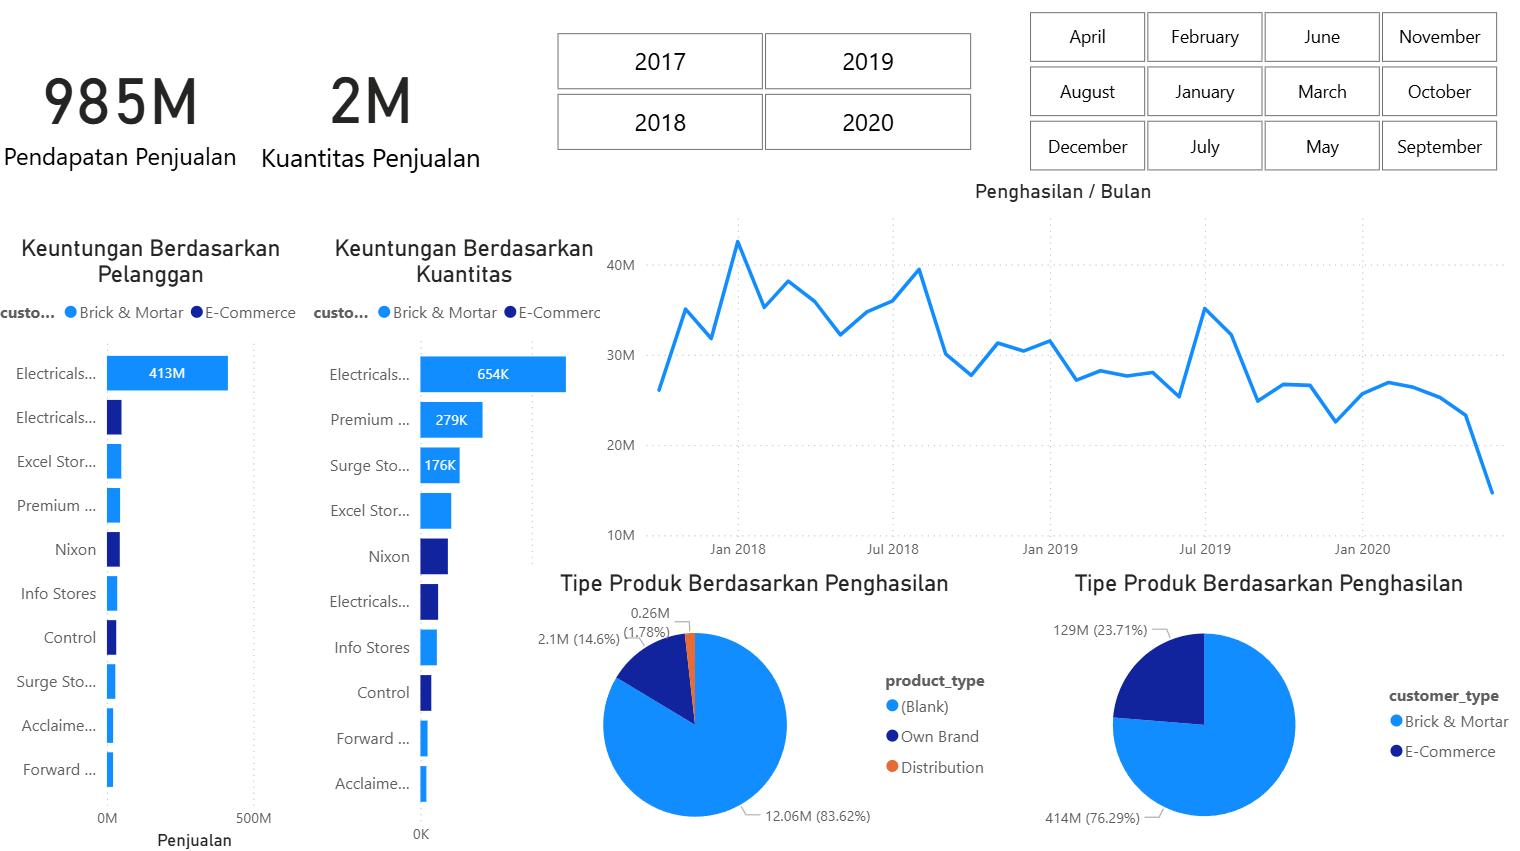

What the dashboard file says about the page in this screenshot:
{"tool":"powerbi","page":{"name":"Analisis_2","canvas":[1280,720],"ordinal":2},"visuals":[{"type":"card","fields":{"Values":["KeyProduct.Measure"]},"box":[0,0,209.8,192.8],"z":0},{"type":"card","fields":{"Values":["KeyProduct.Measure"]},"box":[209.8,0,209.8,192.8],"z":1000},{"type":"barChart","title":"Keuntungan Berdasarkan Pelanggan","fields":{"Y":["KeyProduct.Measure"],"Category":["sales customers.custmer_name"],"Series":["sales customers.customer_type"]},"box":[0,201.7,261.7,518.3],"z":2000},{"type":"barChart","title":"Keuntungan Berdasarkan Kuantitas","fields":{"Y":["Sum(sales transactions.sales_qty)"],"Category":["sales customers.custmer_name"],"Series":["sales customers.customer_type"]},"box":[261.7,201.7,261.7,518.3],"z":3000},{"type":"slicer","fields":{"Values":["sales date.month_name"]},"box":[840,8.3,440,146.7],"z":4000},{"type":"slicer","fields":{"Values":["sales date.year"]},"box":[445,26.7,395,111.7],"z":5000},{"type":"lineChart","title":"Penghasilan / Bulan","fields":{"Y":["Sum(sales transactions.sales_revenue)"],"Category":["sales date.cy_date.Variation.Date Hierarchy.Year","sales date.cy_date.Variation.Date Hierarchy.Quarter","sales date.cy_date.Variation.Date Hierarchy.Month","sales date.cy_date.Variation.Date Hierarchy.Day"]},"box":[505.6,155.1,773.9,327.2],"z":6000},{"type":"pieChart","title":"Tipe Produk Berdasarkan Penghasilan","fields":{"Y":["Sum(sales transactions.sales_revenue)"],"Category":["sales customers.customer_type"]},"box":[851,481.5,428.5,237.7],"z":7000},{"type":"pieChart","title":"Tipe Produk Berdasarkan Penghasilan","fields":{"Category":["sales products.product_type"],"Y":["Sum(sales transactions.profit_margin)"]},"box":[420.9,481.5,428.5,237.7],"z":8000}]}

Visuals, with their boxes in screenshot pixels (x1, y1, x2, y2), scaled from the page's 1280x720 canvas onto the 1520x851 screenshot:
card - KeyProduct.Measure: x1=0, y1=0, x2=249, y2=228
card - KeyProduct.Measure: x1=249, y1=0, x2=498, y2=228
"Keuntungan Berdasarkan Pelanggan" barChart: x1=0, y1=238, x2=311, y2=850
"Keuntungan Berdasarkan Kuantitas" barChart: x1=311, y1=238, x2=622, y2=850
slicer - sales date.month_name: x1=998, y1=10, x2=1519, y2=183
slicer - sales date.year: x1=528, y1=32, x2=998, y2=164
"Penghasilan / Bulan" lineChart: x1=600, y1=183, x2=1519, y2=570
"Tipe Produk Berdasarkan Penghasilan" pieChart: x1=1011, y1=569, x2=1519, y2=850
"Tipe Produk Berdasarkan Penghasilan" pieChart: x1=500, y1=569, x2=1009, y2=850
